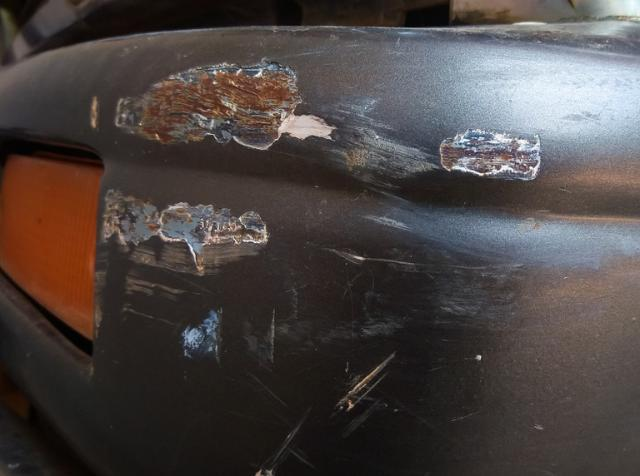Bumper: (70, 34, 594, 465)
